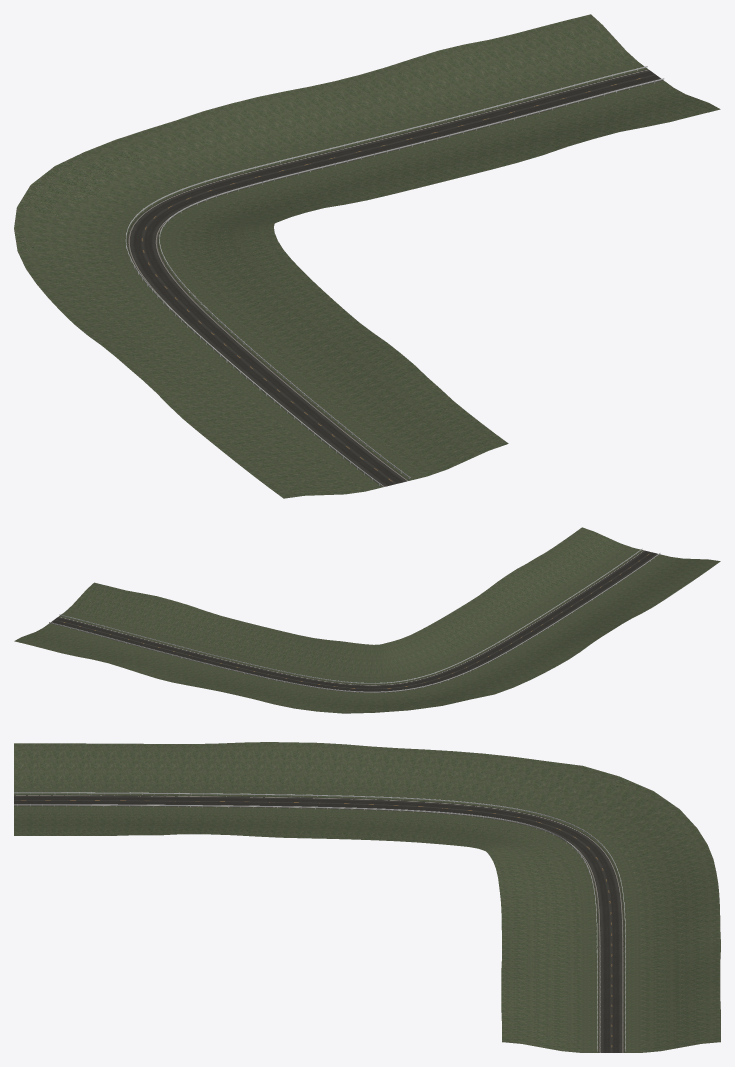
3 renders of one model, top to bottom at view 1: azimuth 30°, elevation 25°; view 2: azimuth 150°, elevation 25°; view 3: azimuth 270°, elevation 25°, orthographic. The views are drawn at different scales.
Visible parts, largest first — view 1: Grass, HighWay, GuardRail; view 2: Grass, HighWay, GuardRail; view 3: Grass, HighWay, GuardRail.
Part boxes in pixels (box(x1,y1,x2,y2)): Grass: box(14, 14, 720, 498); HighWay: box(126, 69, 663, 487); GuardRail: box(125, 66, 664, 485); Grass: box(14, 527, 720, 713); HighWay: box(49, 550, 659, 692); GuardRail: box(49, 548, 660, 692); Grass: box(14, 742, 720, 1052); HighWay: box(14, 794, 624, 1052); GuardRail: box(14, 792, 625, 1051).
Size of what is drawn, in the model's own units: 355 by 11.31 by 355.
